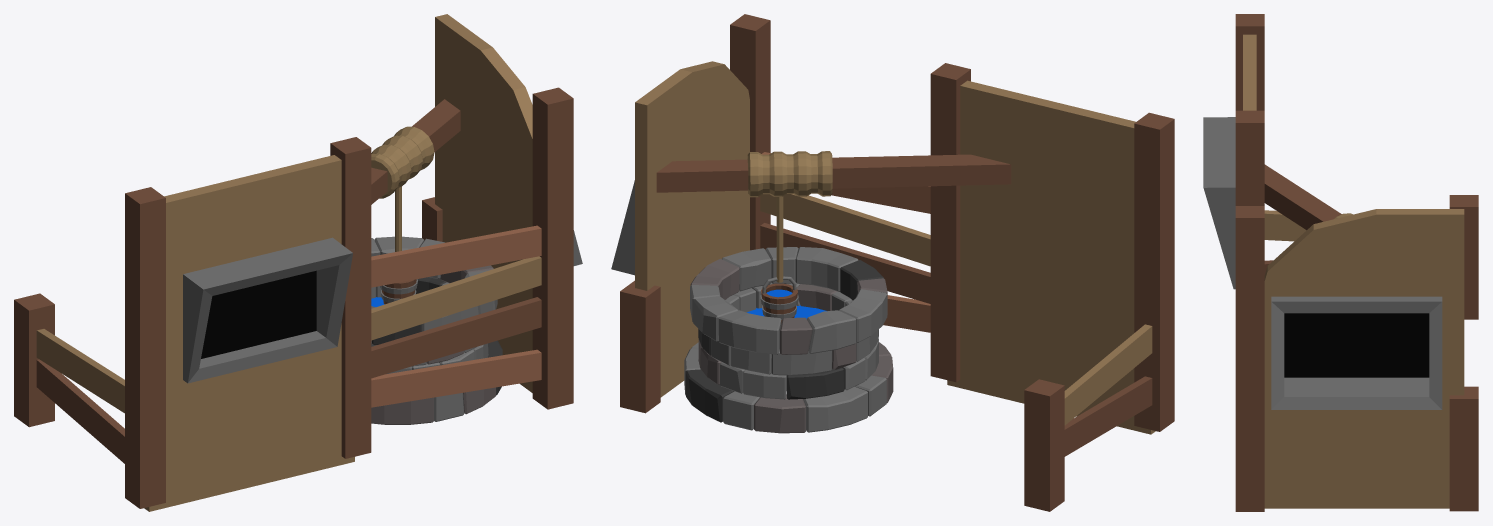
The model's file is Seperated_WaterCollector.fbx.
3 views of the same model, side by side, from view 1: azimuth 30°, elevation 25°; view 2: azimuth 150°, elevation 25°; view 3: azimuth 270°, elevation 25° (orthographic). The views are drawn at different scales.
Visible parts, largest first — view 1: Cube.051, Cube.232, Cube.226, Cube.224, Cube.227, Cube.231, Cube.228, Cube.230, Cube.229, Cube.225, Cube.050, Cube.049 (+6 smaller); view 2: Cube.051, Cube.232, Cube.226, Cube.227, Cube.284, Cube.225, Cube.223, Cube.231, Cube.224, Cube.285, Cube.049, Cube.228 (+25 smaller); view 3: Cube.232, Cube.224, Cube.051, Cube.223, Cube.227, Cube.284, Cube.225, Cube.226, Cube.049.
Boxes of the visible parts, bbox=[...] form: Cube.051: bbox=[144, 155, 354, 511]; Cube.232: bbox=[435, 14, 582, 392]; Cube.226: bbox=[125, 187, 165, 508]; Cube.224: bbox=[532, 87, 573, 409]; Cube.227: bbox=[330, 137, 371, 458]; Cube.231: bbox=[371, 256, 541, 340]; Cube.228: bbox=[371, 297, 541, 378]; Cube.230: bbox=[371, 225, 541, 287]; Cube.229: bbox=[371, 349, 541, 407]; Cube.225: bbox=[14, 293, 54, 427]; Cube.050: bbox=[36, 359, 124, 463]; Cube.049: bbox=[36, 329, 124, 413]; Cube.051: bbox=[947, 80, 1155, 434]; Cube.232: bbox=[611, 61, 749, 397]; Cube.226: bbox=[1134, 112, 1174, 431]; Cube.227: bbox=[930, 63, 970, 382]; Cube.284: bbox=[656, 154, 1011, 192]; Cube.225: bbox=[1024, 379, 1064, 511]; Cube.223: bbox=[620, 280, 660, 413]; Cube.231: bbox=[760, 194, 930, 266]; Cube.224: bbox=[730, 14, 770, 250]; Cube.285: bbox=[747, 151, 832, 197]; Cube.049: bbox=[1064, 324, 1152, 425]; Cube.228: bbox=[760, 223, 930, 303]; Cube.232: bbox=[1264, 209, 1464, 508]; Cube.224: bbox=[1235, 206, 1264, 511]; Cube.051: bbox=[1203, 34, 1256, 289]; Cube.223: bbox=[1449, 386, 1478, 511]; Cube.227: bbox=[1235, 110, 1264, 205]; Cube.284: bbox=[1264, 164, 1341, 230]; Cube.225: bbox=[1449, 195, 1478, 319]; Cube.226: bbox=[1235, 14, 1264, 110]; Cube.049: bbox=[1264, 210, 1306, 241].
Size of the model in its own units: 317 by 206 by 170.
